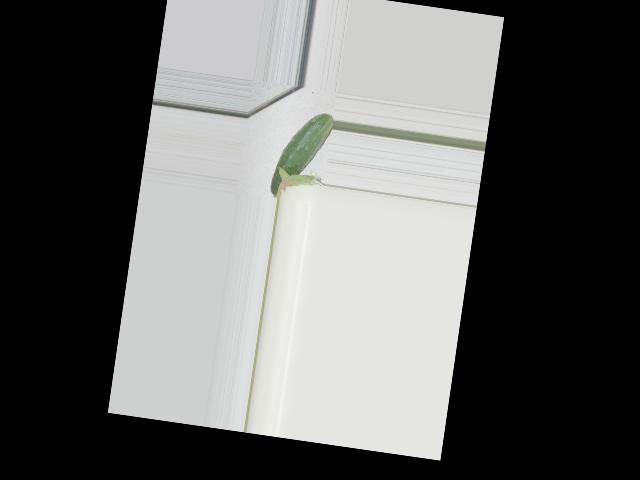cucumber: (269, 107, 334, 204)
